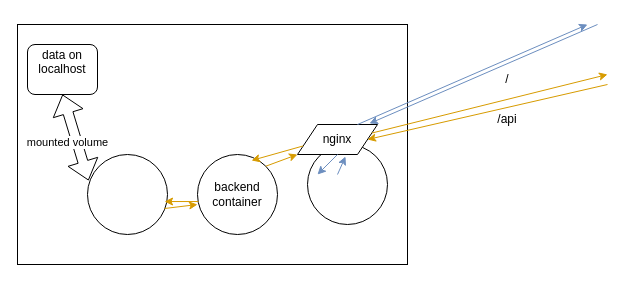
The diagram is 633 pixels wide and 282 high, and some of its shapes have lost their labels. The centre of each missing label's shape, as x and y in pixels:
database container: point 127,194
frontend container: point 347,184
